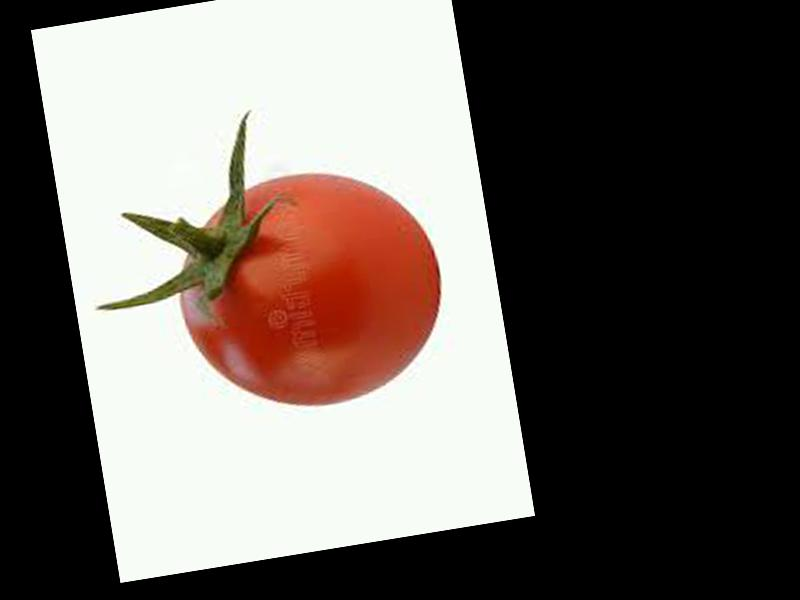Tomato: (165, 157, 458, 425)
